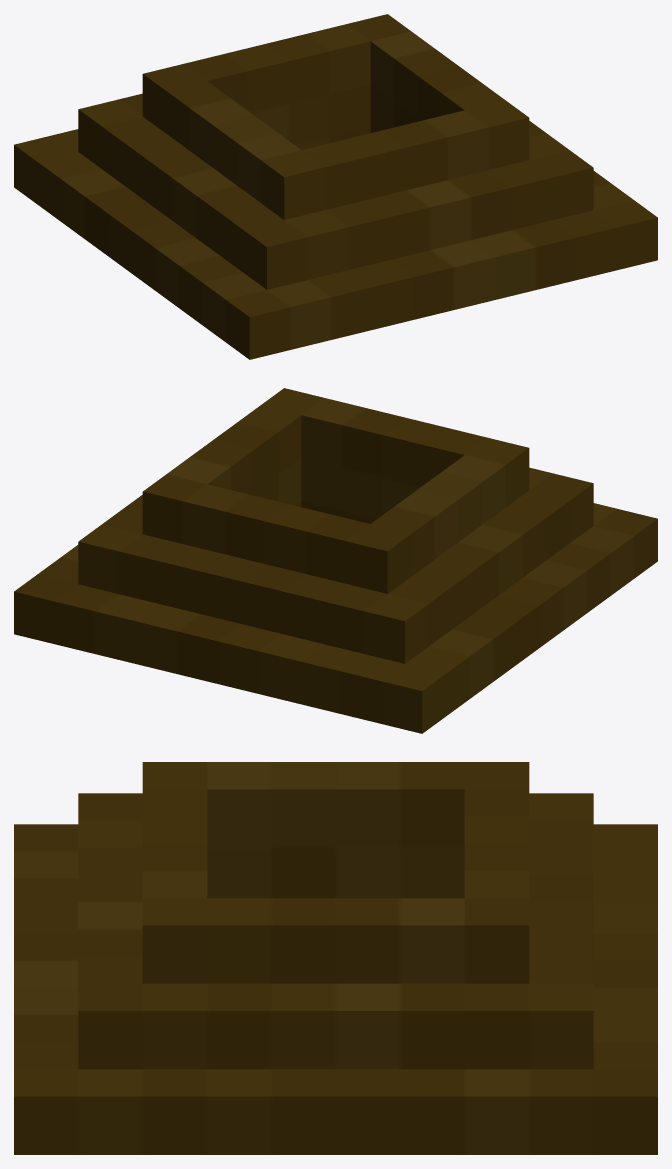
Rendered from chapter2_molehole.fbx.
3 views of the same model, one above another, from view 1: azimuth 30°, elevation 25°; view 2: azimuth 150°, elevation 25°; view 3: azimuth 270°, elevation 25° (orthographic). The views are drawn at different scales.
Parts seen in each view (by area): view 1: Matrix; view 2: Matrix; view 3: Matrix.
Boxes of the visible parts, left/top/right/bottom form: Matrix: left=14, top=14, right=657, bottom=359; Matrix: left=14, top=388, right=657, bottom=733; Matrix: left=14, top=762, right=657, bottom=1154.
Size of the model in its own units: 10 by 3 by 10.
